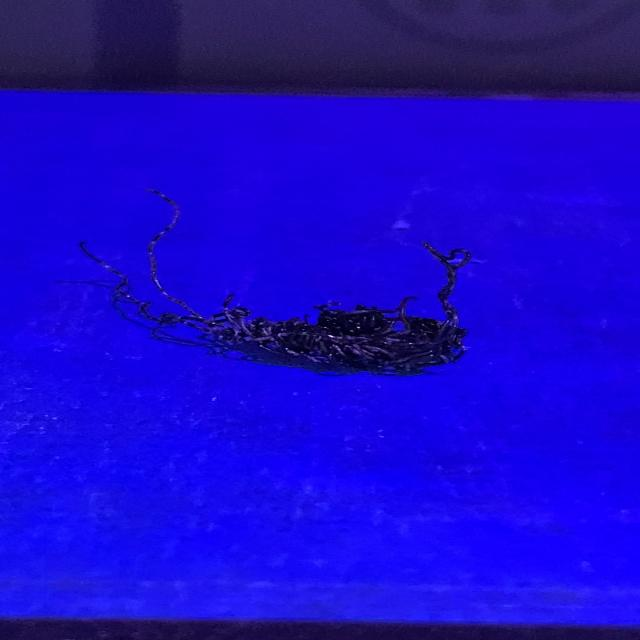spaghetti: (75, 188, 473, 376)
